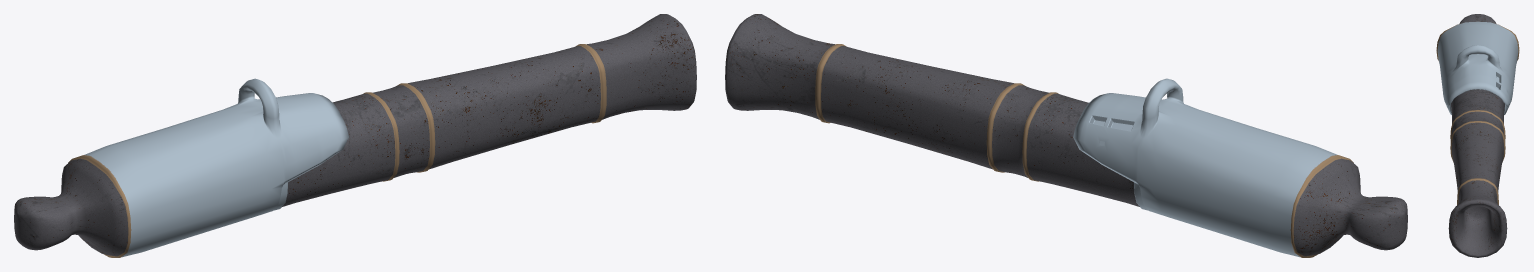
The model's file is RocketCannon.fbx.
3 views of the same model, side by side, from view 1: azimuth 30°, elevation 25°; view 2: azimuth 150°, elevation 25°; view 3: azimuth 270°, elevation 25° (orthographic). The views are drawn at different scales.
Parts seen in each view (by area): view 1: pCylinder1; view 2: pCylinder1; view 3: pCylinder1.
Part boxes in pixels (box(x1,y1,x2,y2)): pCylinder1: box(14, 14, 696, 257); pCylinder1: box(725, 14, 1407, 257); pCylinder1: box(1436, 14, 1519, 257).
Size of the model in its own units: 1766 by 346 by 298.
1 material, 1 textured.
